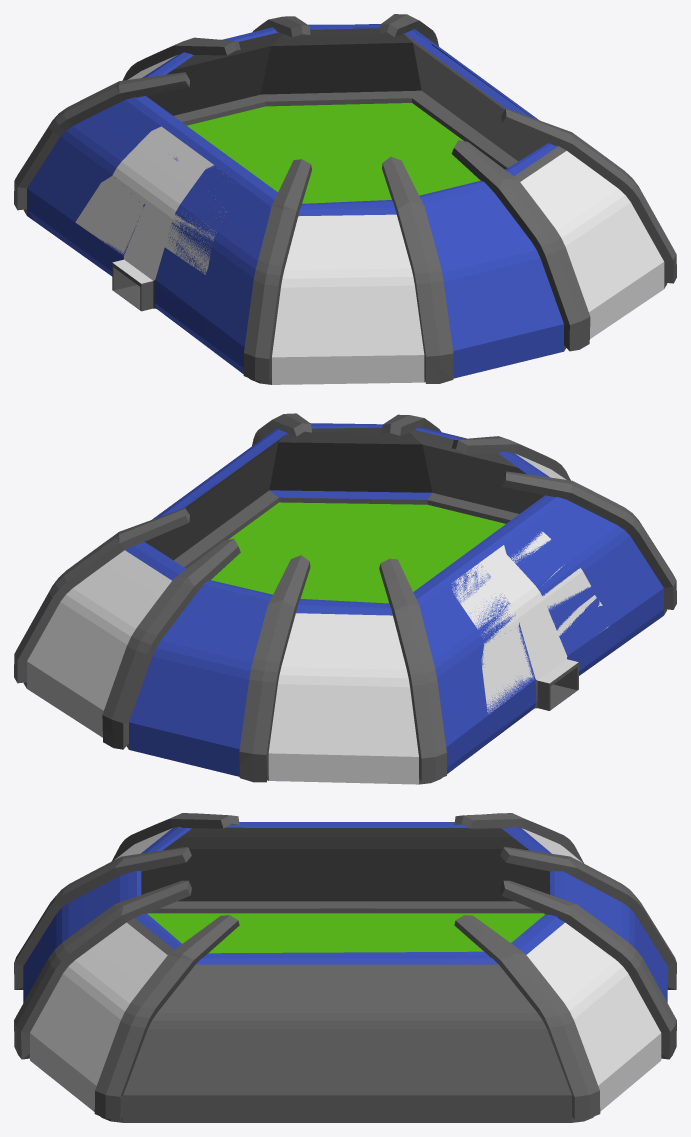
File: Stadium.fbx
3 views of the same model, one above another, from view 1: azimuth 30°, elevation 25°; view 2: azimuth 150°, elevation 25°; view 3: azimuth 270°, elevation 25° (orthographic).
Visible parts, largest first — view 1: Stadium, Stadium_cell.052, Stadium_cell.021, Stadium_cell.020, Stadium_cell.051, Stadium_cell.085, Stadium_cell.064, Stadium_cell.084, Stadium_cell.043, Stadium_cell.039, Stadium_cell.075, Stadium_cell.047 (+15 smaller); view 2: Stadium, Stadium_cell.021, Stadium_cell.045, Stadium_cell.001, Stadium_cell.051, Stadium_cell.052, Stadium_cell.022, Stadium_cell.020, Stadium_cell.077, Stadium_cell.044, Stadium_cell.087, Stadium_cell.032 (+31 smaller); view 3: Stadium, Stadium_cell.052, Stadium_cell.038, Stadium_cell.012, Stadium_cell.107, Stadium_cell.029, Stadium_cell.099, Stadium_cell.074, Stadium_cell.108, Stadium_cell.075, Stadium_cell.031, Stadium_cell.037 (+21 smaller).
Part boxes in pixels (bbox=[...]): Stadium: bbox=[14, 16, 676, 384]; Stadium_cell.052: bbox=[320, 71, 491, 157]; Stadium_cell.021: bbox=[112, 124, 231, 204]; Stadium_cell.020: bbox=[35, 119, 100, 224]; Stadium_cell.051: bbox=[75, 176, 149, 276]; Stadium_cell.085: bbox=[196, 77, 282, 135]; Stadium_cell.064: bbox=[343, 157, 480, 201]; Stadium_cell.084: bbox=[336, 339, 456, 383]; Stadium_cell.043: bbox=[144, 196, 216, 274]; Stadium_cell.039: bbox=[174, 110, 268, 171]; Stadium_cell.075: bbox=[611, 220, 676, 315]; Stadium_cell.047: bbox=[265, 160, 343, 203]; Stadium: bbox=[17, 413, 676, 784]; Stadium_cell.021: bbox=[444, 535, 519, 644]; Stadium_cell.045: bbox=[342, 654, 422, 734]; Stadium_cell.001: bbox=[190, 638, 272, 709]; Stadium_cell.051: bbox=[481, 626, 565, 743]; Stadium_cell.052: bbox=[14, 626, 84, 714]; Stadium_cell.022: bbox=[190, 708, 336, 765]; Stadium_cell.020: bbox=[421, 652, 487, 719]; Stadium_cell.077: bbox=[349, 444, 470, 486]; Stadium_cell.044: bbox=[164, 592, 243, 658]; Stadium_cell.087: bbox=[267, 661, 344, 734]; Stadium_cell.032: bbox=[344, 619, 407, 664]; Stadium: bbox=[14, 813, 676, 1122]; Stadium_cell.052: bbox=[365, 1029, 628, 1122]; Stadium_cell.038: bbox=[341, 956, 553, 1122]; Stadium_cell.012: bbox=[341, 931, 547, 1098]; Stadium_cell.107: bbox=[347, 952, 451, 1056]; Stadium_cell.029: bbox=[94, 1094, 322, 1122]; Stadium_cell.099: bbox=[460, 1000, 550, 1077]; Stadium_cell.074: bbox=[114, 1009, 342, 1122]; Stadium_cell.108: bbox=[246, 964, 346, 1100]; Stadium_cell.075: bbox=[63, 1052, 225, 1111]; Stadium_cell.031: bbox=[161, 828, 256, 877]; Stadium_cell.037: bbox=[589, 941, 632, 1033].
Bounding box in the file's own units: 2163 × 760 × 2855.
